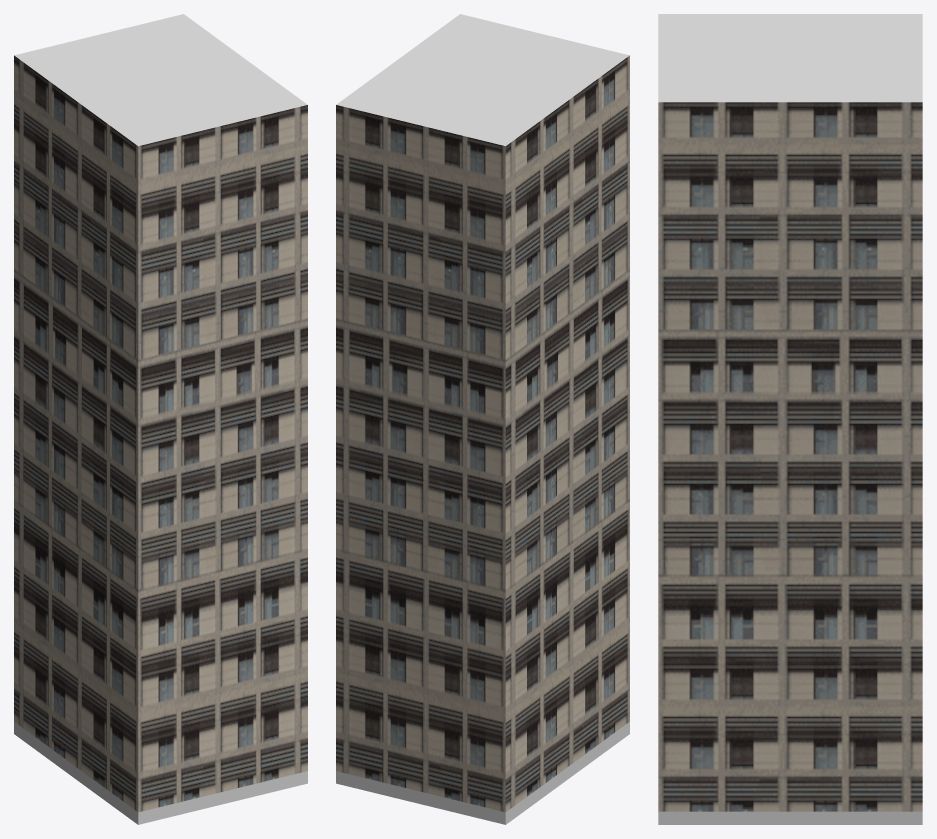
The model's file is Medium building.fbx.
The picture shows the model from 3 angles, left to right: view 1: azimuth 30°, elevation 25°; view 2: azimuth 150°, elevation 25°; view 3: azimuth 270°, elevation 25°; orthographic projection. The views are drawn at different scales.
Visible parts, largest first — view 1: Cube.002; view 2: Cube.002; view 3: Cube.002.
Part boxes in pixels (bbox=[...]): Cube.002: bbox=[14, 14, 307, 824]; Cube.002: bbox=[336, 14, 629, 824]; Cube.002: bbox=[658, 14, 922, 824].
Size of the model in its own units: 1931 by 7379 by 2447.
